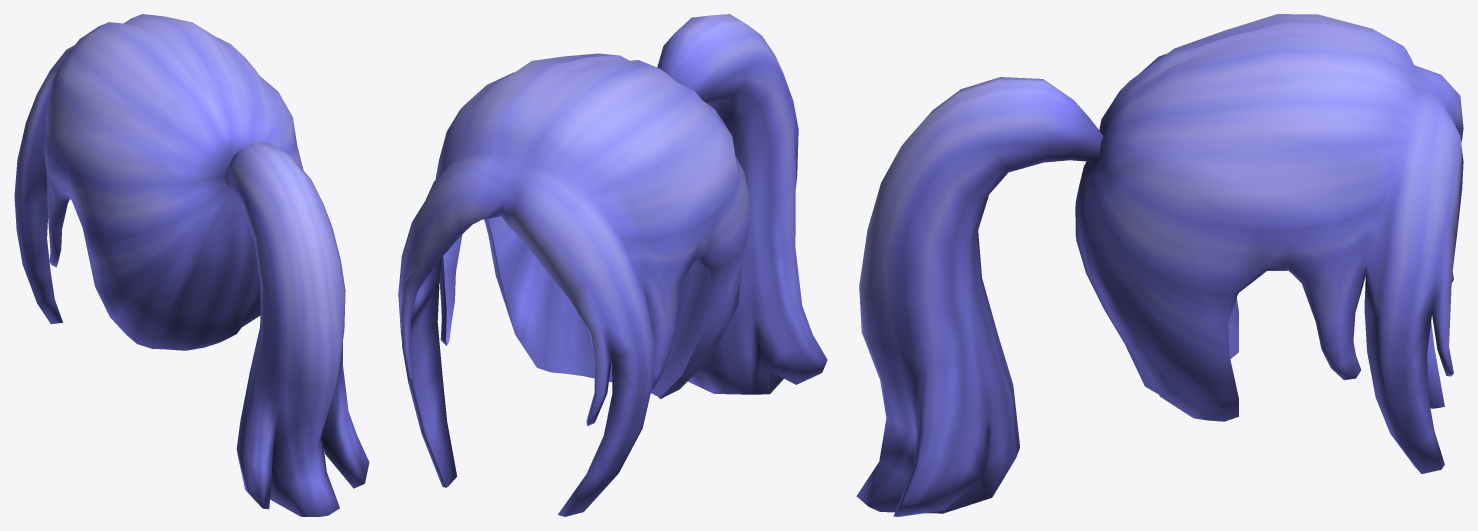
File: Hair_Female_002_textured_sky.glb
3 views of the same model, side by side, from view 1: azimuth 30°, elevation 25°; view 2: azimuth 150°, elevation 25°; view 3: azimuth 270°, elevation 25° (orthographic). The views are drawn at different scales.
Visible parts, largest first — view 1: Hair_Female_002; view 2: Hair_Female_002; view 3: Hair_Female_002.
Boxes of the visible parts, bbox=[...] form: Hair_Female_002: bbox=[14, 14, 369, 516]; Hair_Female_002: bbox=[398, 14, 827, 516]; Hair_Female_002: bbox=[856, 14, 1463, 516].
Bounding box in the file's own units: 0.1741 × 0.2888 × 0.3351.
Materials: 1 (1 with a texture image).
